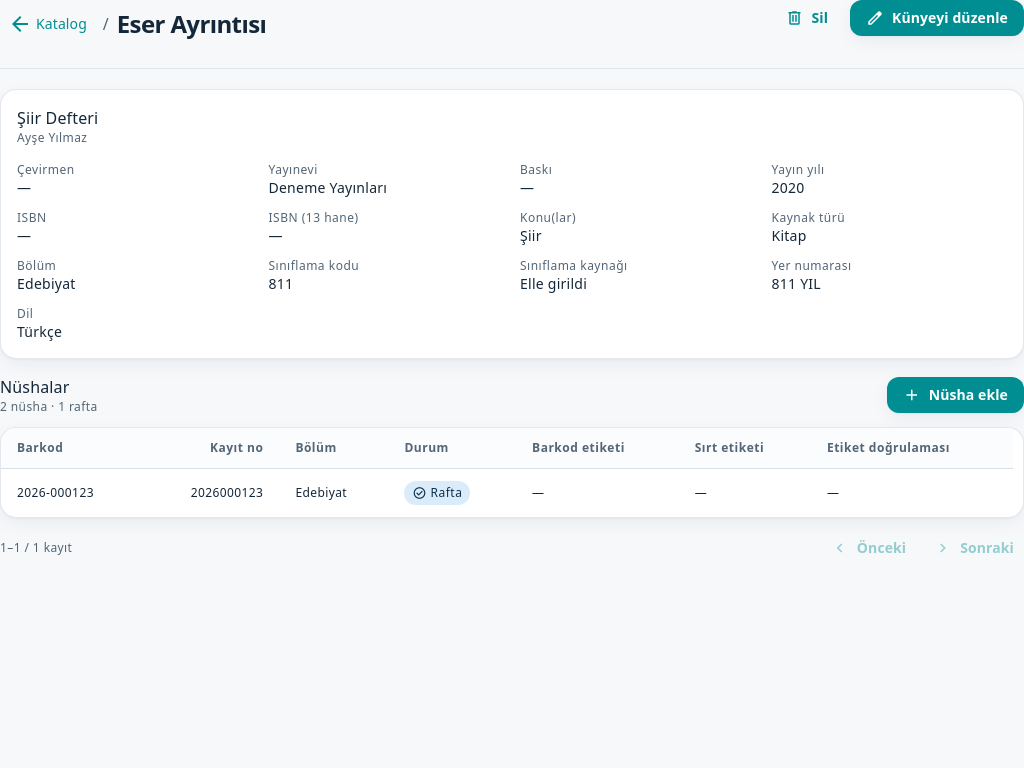
Test: Eser Ayrıntısı — künye › künye düzenleme formu kaydedilen kaydı ekrana yansıtır
Expected: the text "Şiir Defteri" is shown, [17, 107, 98, 129]
Click the button "Künyeyi düzenle" at point(937, 18), box [850, 0, 1023, 36]
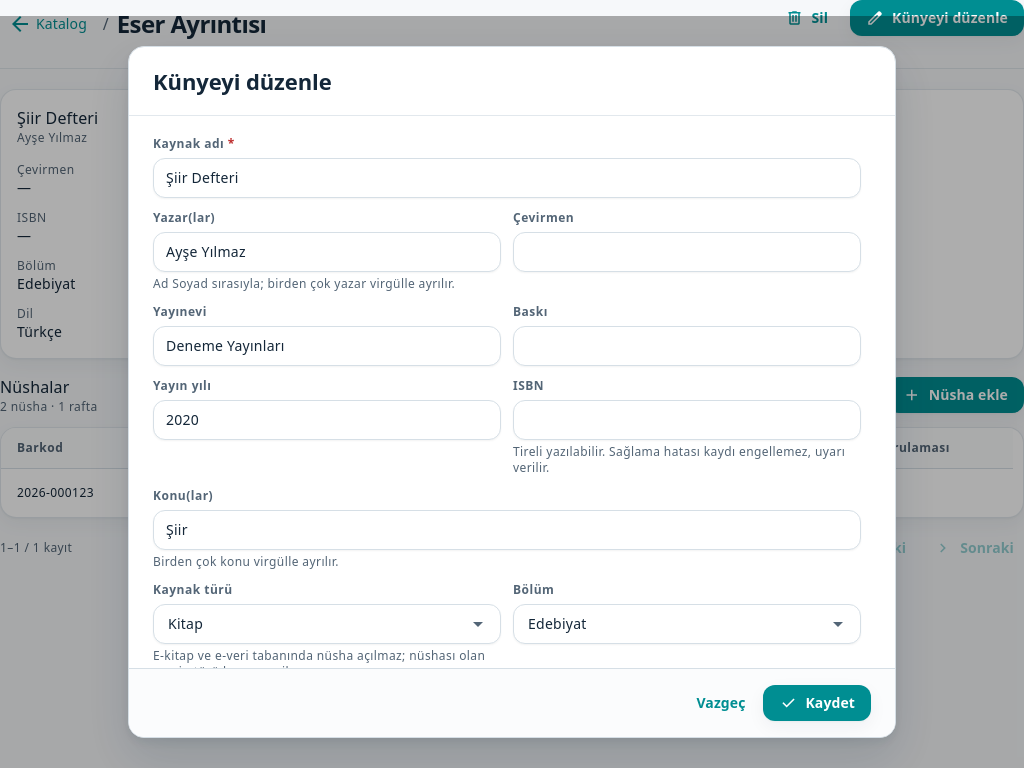
Replace the text in the field labelled "Kaynak adı *" with "İnce Kitap" at point(507, 178), box [166, 168, 848, 188]
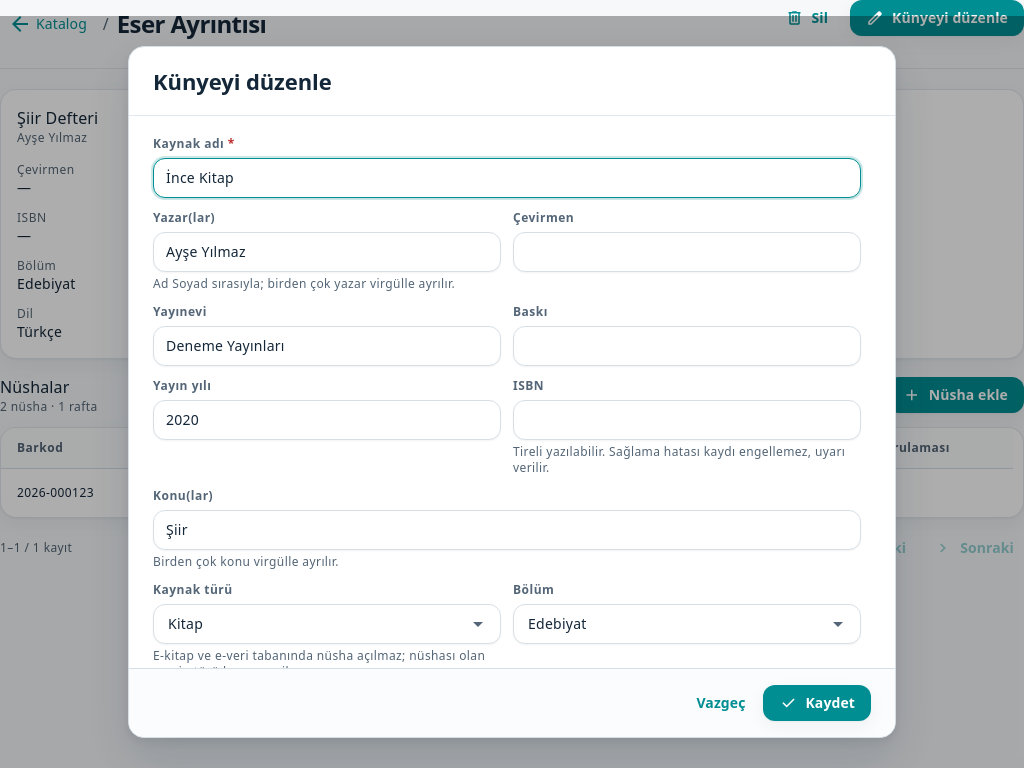
Click the button "Kaydet" at point(817, 703), box [764, 685, 871, 721]
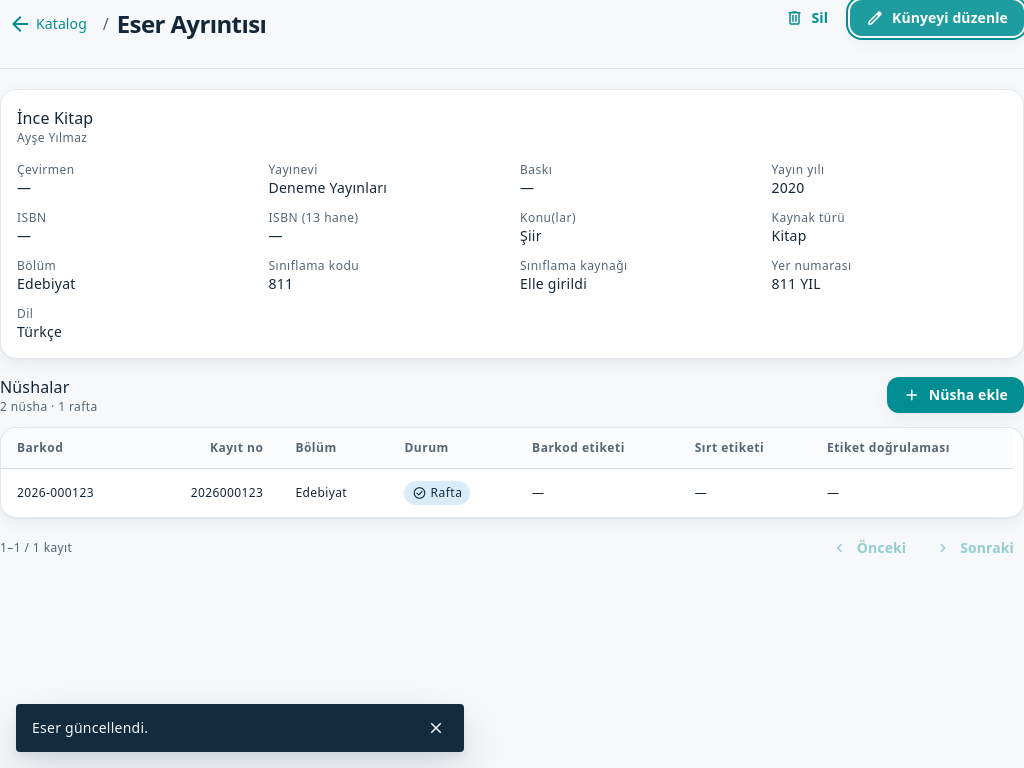
Result: the text "İnce Kitap" is shown at [17, 107, 93, 129]
